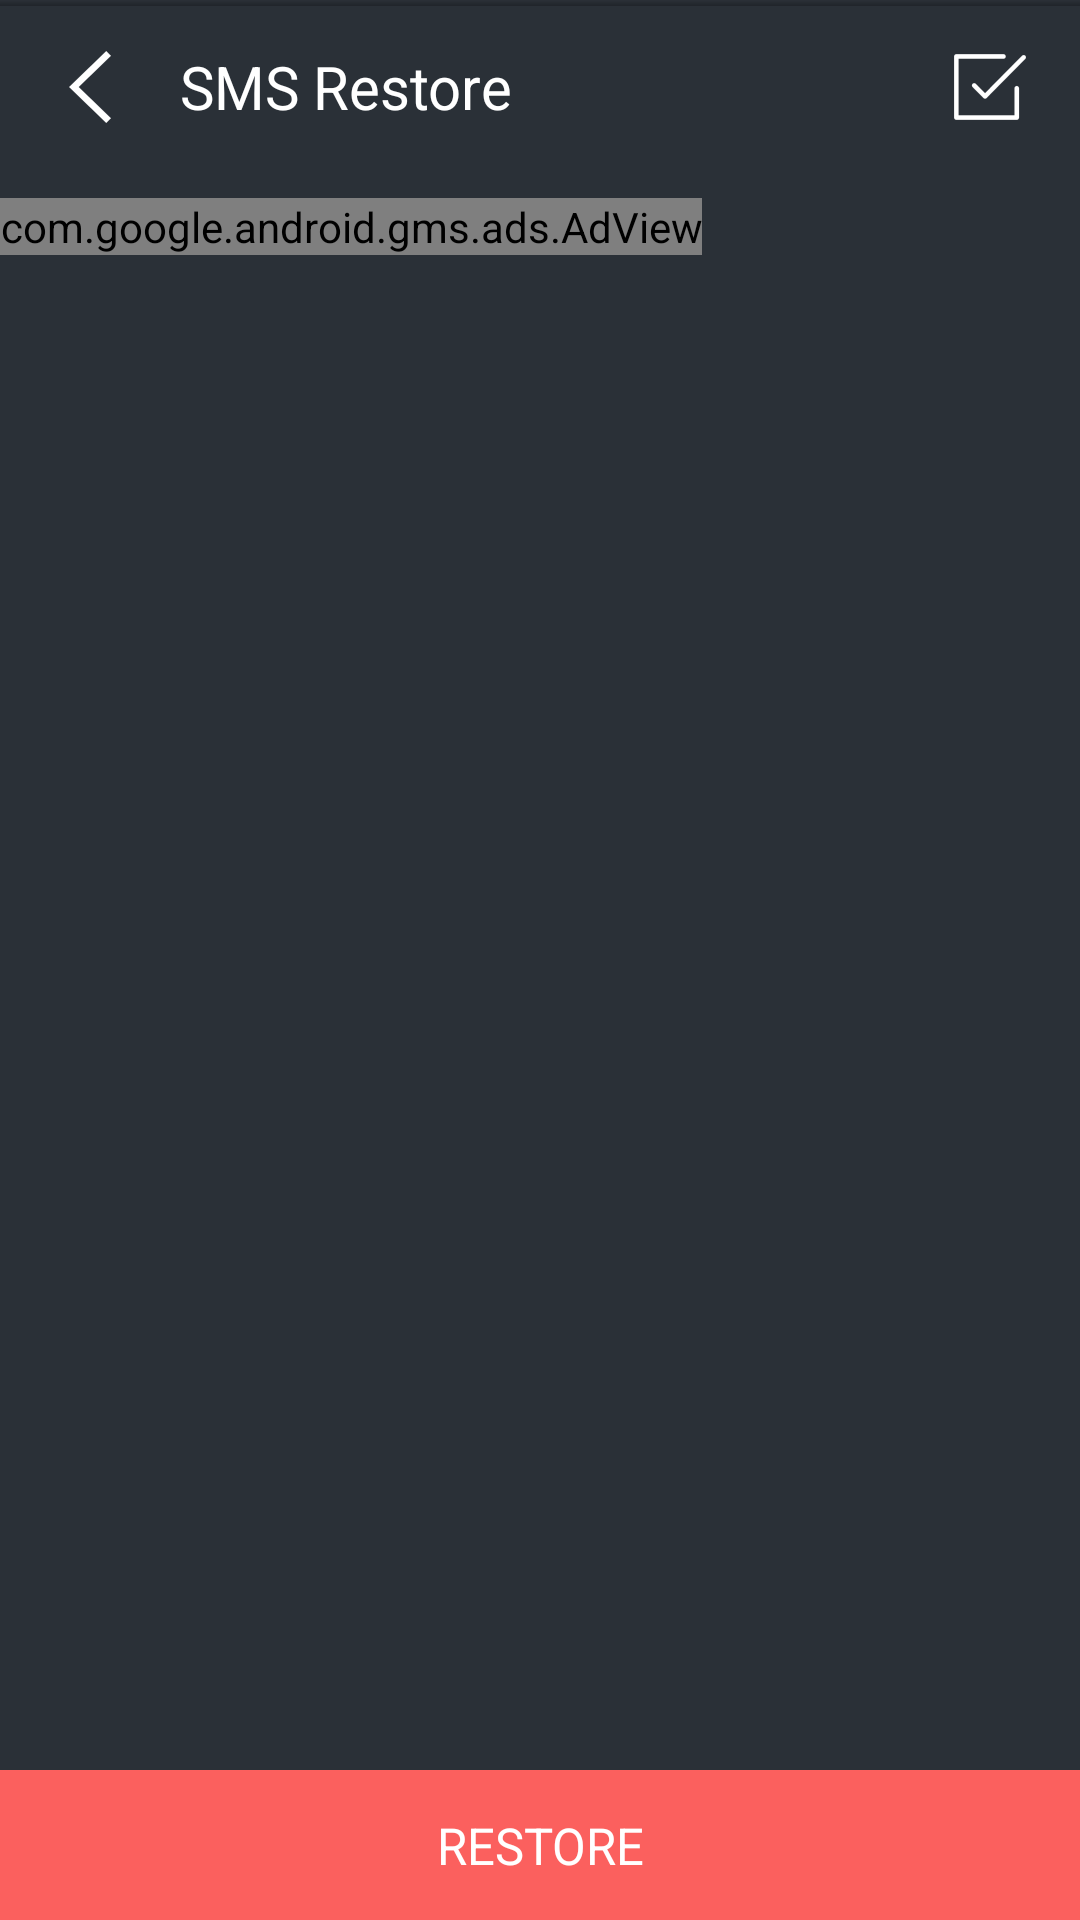

Locate icon controls on the screen. Image size 1080×1920, boxes as box=[x1, y1, x2, y2].
back activity: box=[69, 51, 111, 123]
check box: box=[954, 54, 1026, 120]
